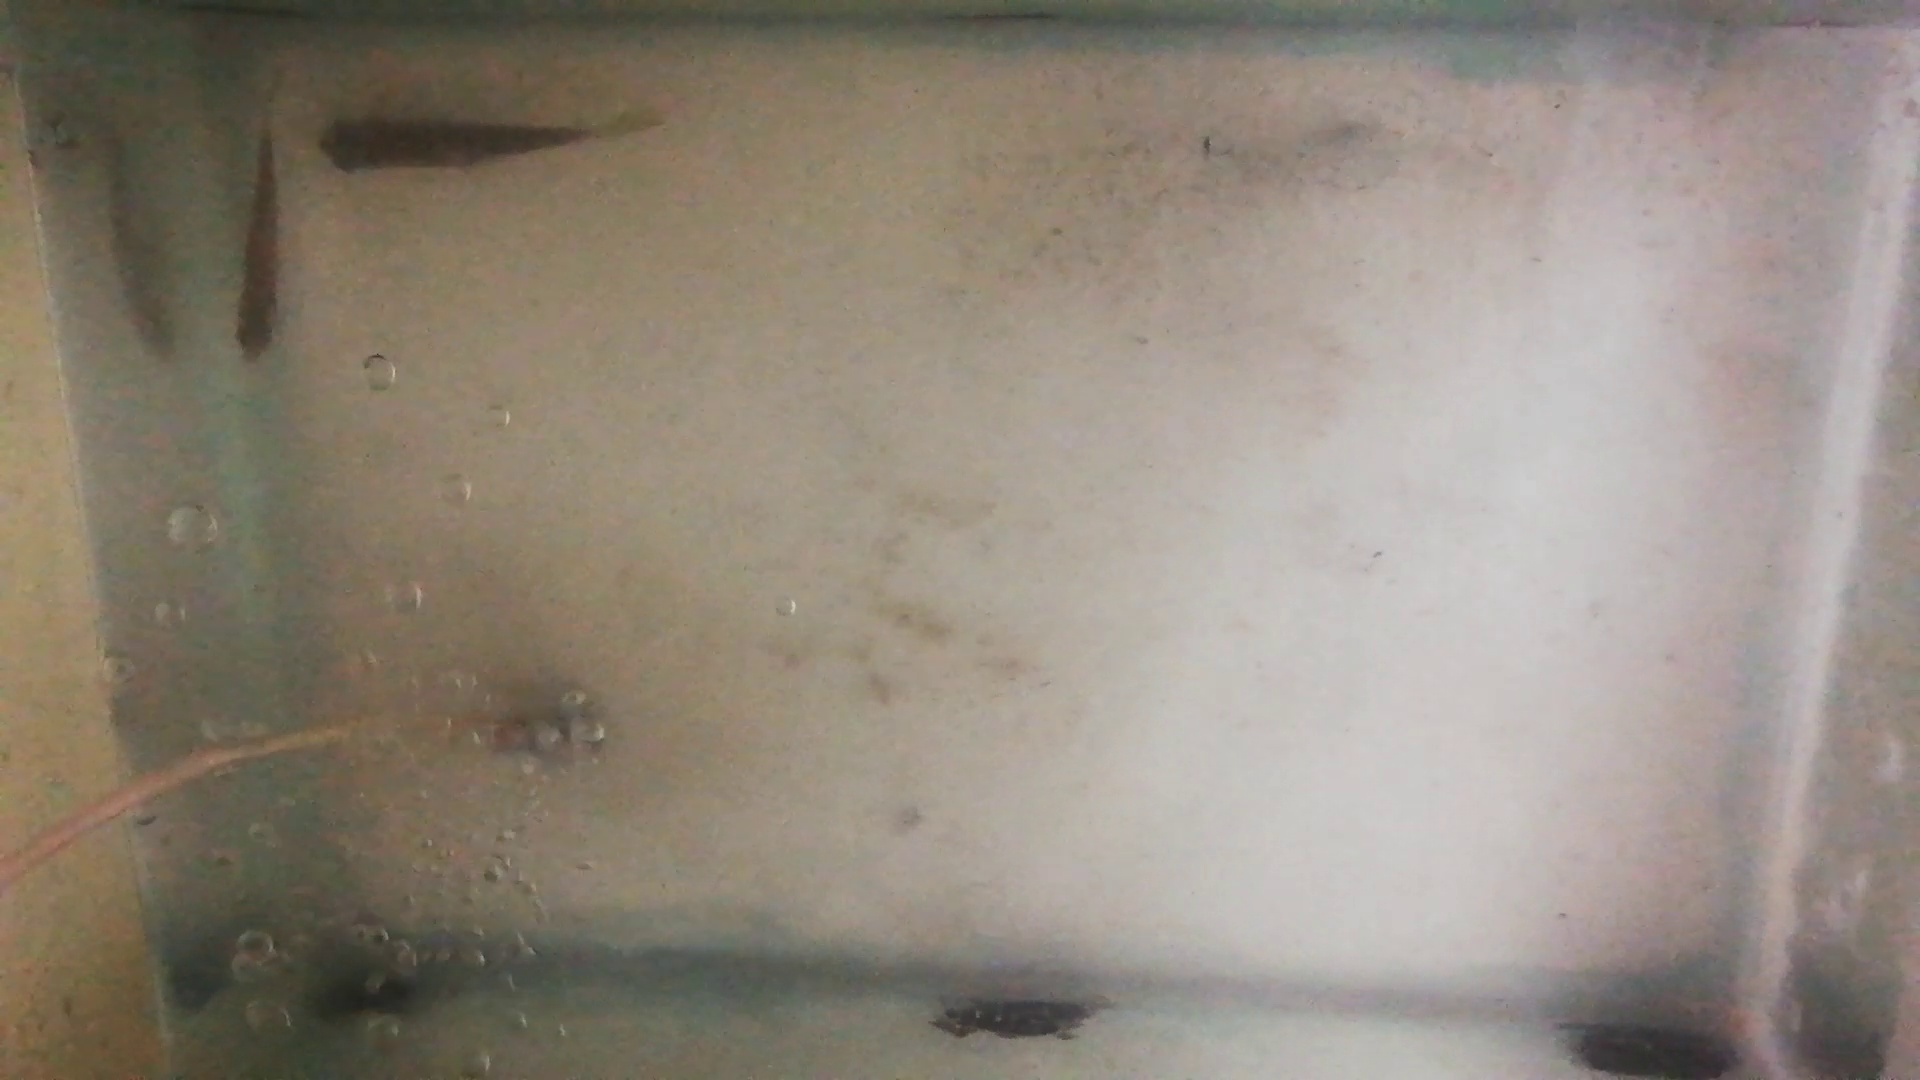fish: (311, 116, 592, 173), (233, 141, 284, 363)
